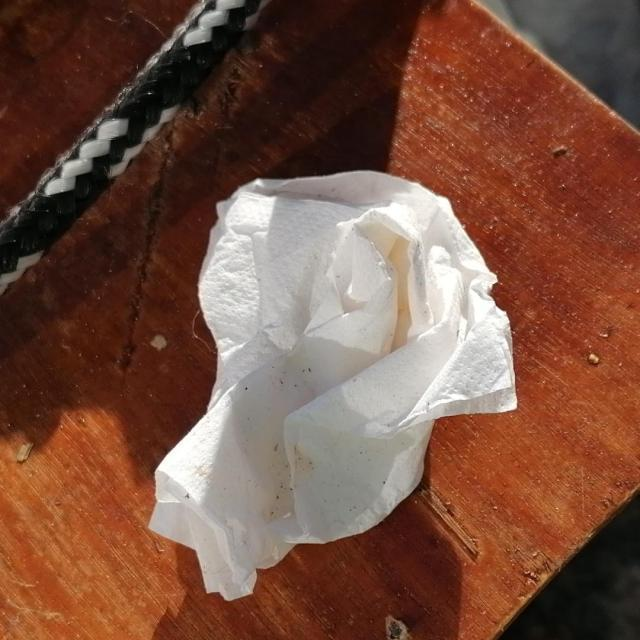Paper: (145, 168, 520, 602)
